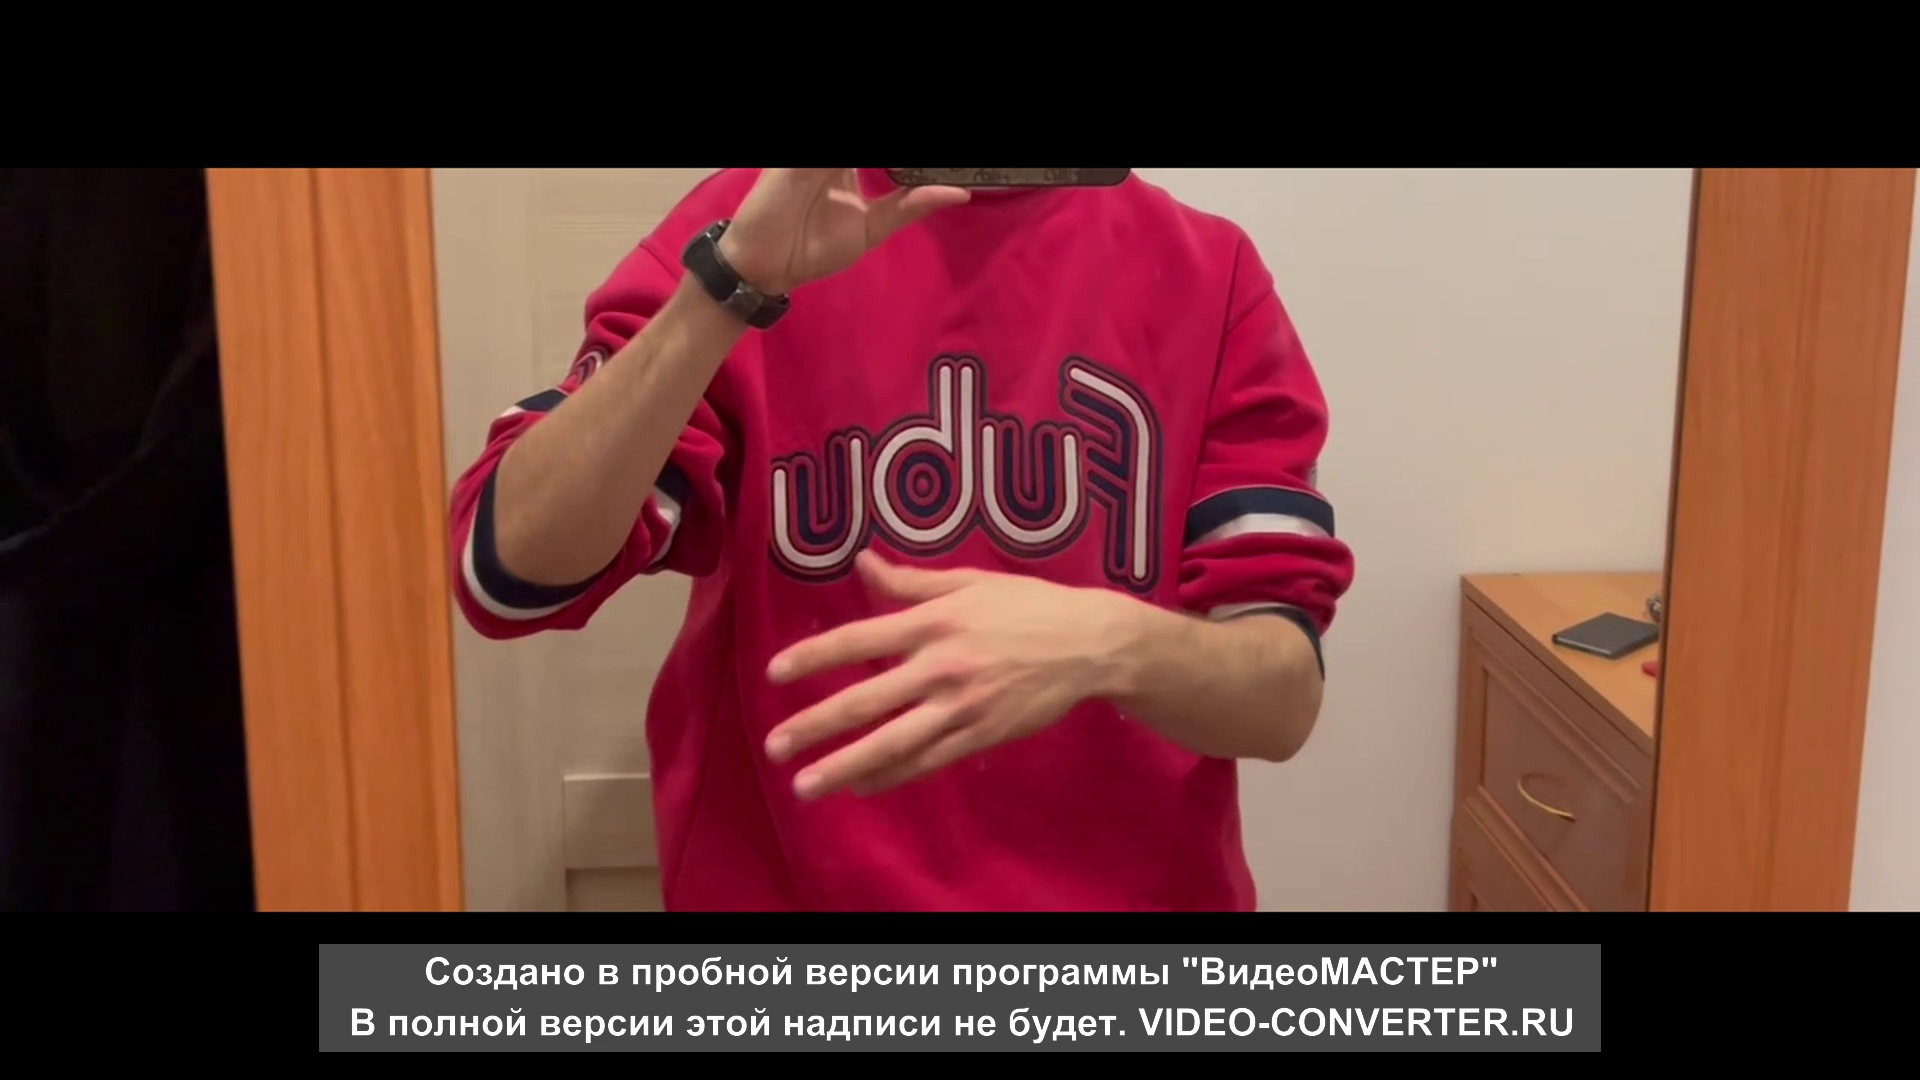Кисть: (762, 551, 1131, 802)
